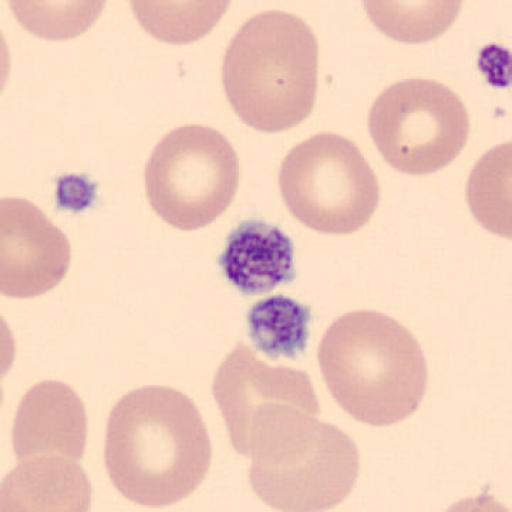Platelet: (216, 217, 300, 298), (244, 291, 315, 362), (49, 168, 103, 216)
RBC: (102, 382, 214, 511), (316, 306, 430, 429), (210, 340, 322, 460), (218, 8, 321, 134), (246, 405, 363, 512), (140, 121, 241, 233), (276, 130, 381, 237), (366, 76, 472, 178), (12, 377, 90, 475), (2, 194, 73, 300), (1, 453, 94, 512), (126, 0, 237, 47), (465, 138, 512, 243), (358, 0, 466, 45), (6, 0, 108, 42), (434, 491, 512, 512), (0, 310, 18, 385), (0, 8, 13, 108), (0, 23, 13, 104)
